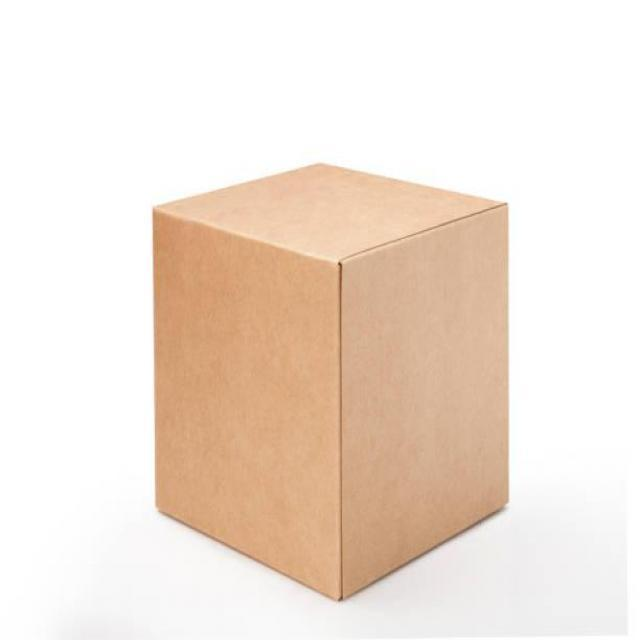box: (140, 141, 530, 612)
